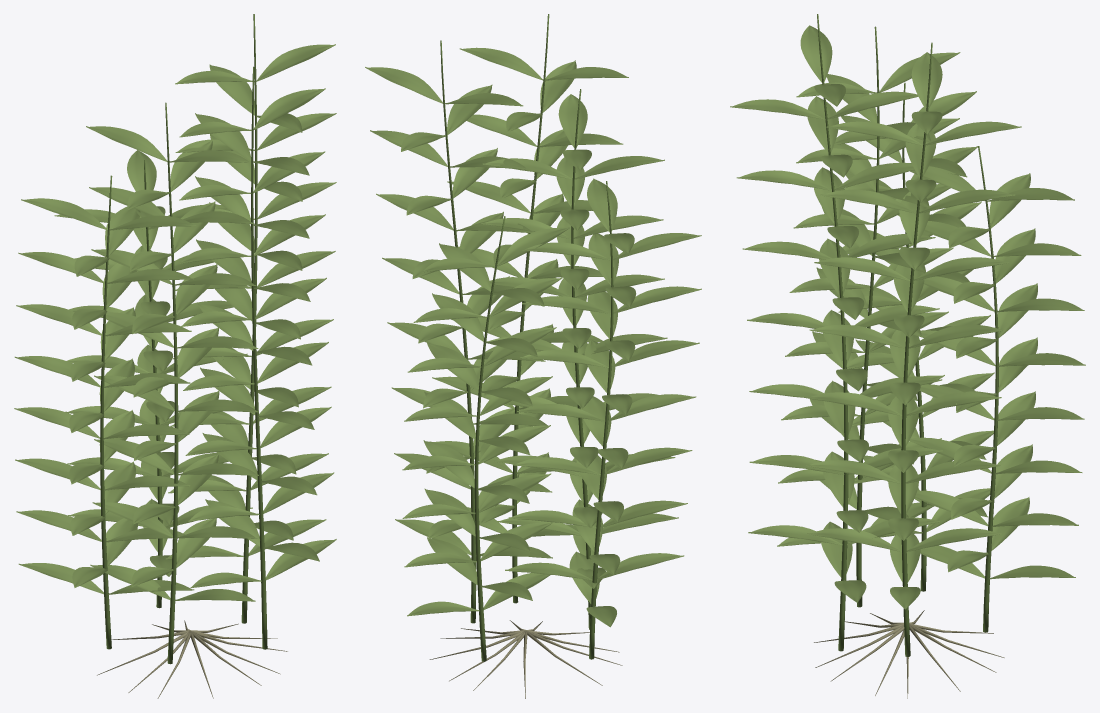
The model's file is hygro-desktop.glb.
3 views of the same model, side by side, from view 1: azimuth 30°, elevation 25°; view 2: azimuth 150°, elevation 25°; view 3: azimuth 270°, elevation 25° (orthographic). The views are drawn at different scales.
Parts seen in each view (by area): view 1: opposite-leaf, branching-stem, anchoring-root; view 2: opposite-leaf, branching-stem, anchoring-root; view 3: opposite-leaf, branching-stem, anchoring-root.
Boxes of the visible parts, box(x1,y1,x2,y2) form: opposite-leaf: box(14, 44, 336, 601); branching-stem: box(100, 14, 267, 664); anchoring-root: box(97, 620, 287, 698); opposite-leaf: box(365, 47, 701, 627); branching-stem: box(440, 14, 613, 661); anchoring-root: box(429, 620, 622, 698); opposite-leaf: box(730, 25, 1085, 609); branching-stem: box(817, 14, 998, 656); anchoring-root: box(814, 610, 1004, 698).
Size of the model in its own units: 0.4504 by 0.8837 by 0.4381.
